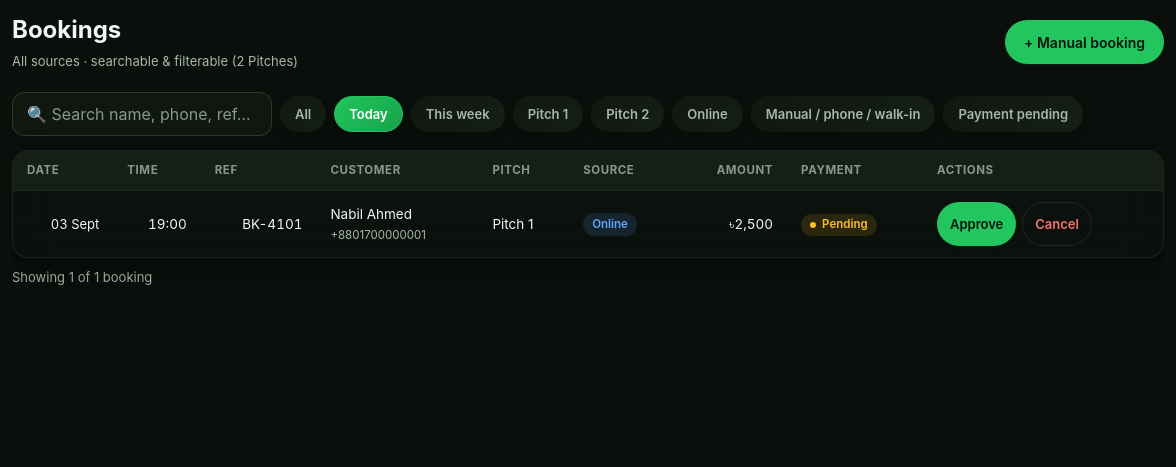
it: Owner BookingsPage — row actions › renders a friendly search empty state and allows clearing the query
Expected: the text "BK-4101" is shown, [201,191,316,257]
Type "NonExistentCustomer" into the field named "search bookings" at (142, 114), box [12,92,272,136]
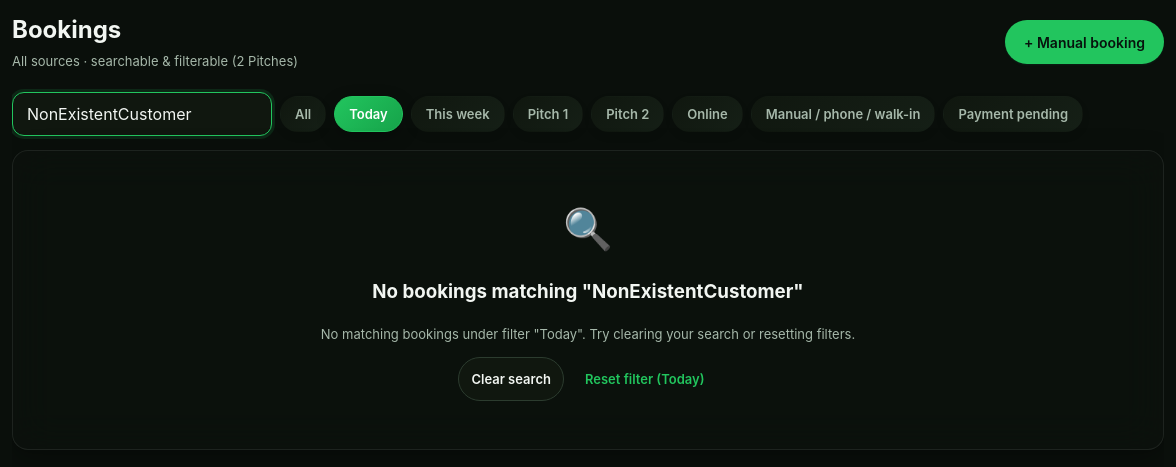
Expected: the heading "No bookings matching \"NonExistentCustomer\"" is shown, [372,280,804,303]
Click the button "Clear search" at (511, 379), box [458,357,564,401]
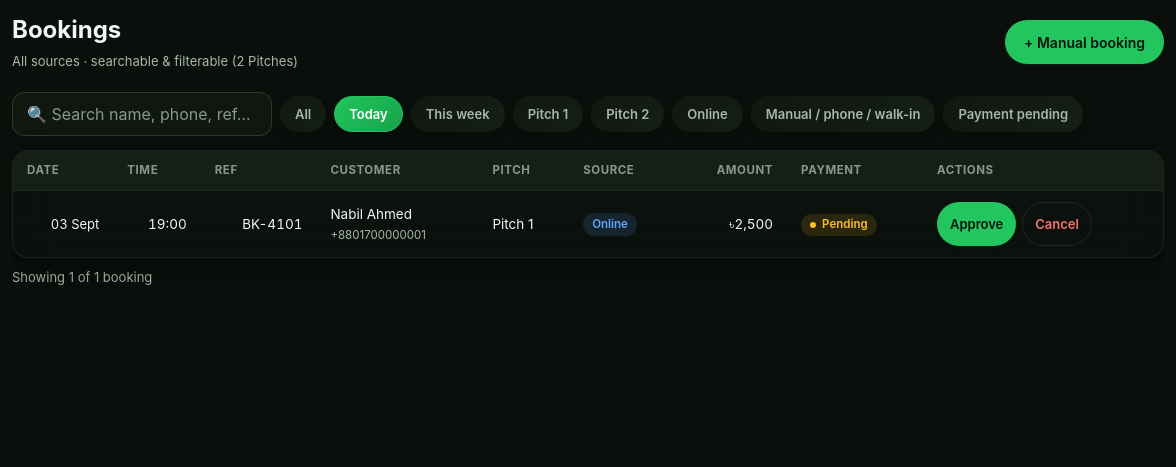
Expected: the text "BK-4101" is shown, [201,191,316,257]
